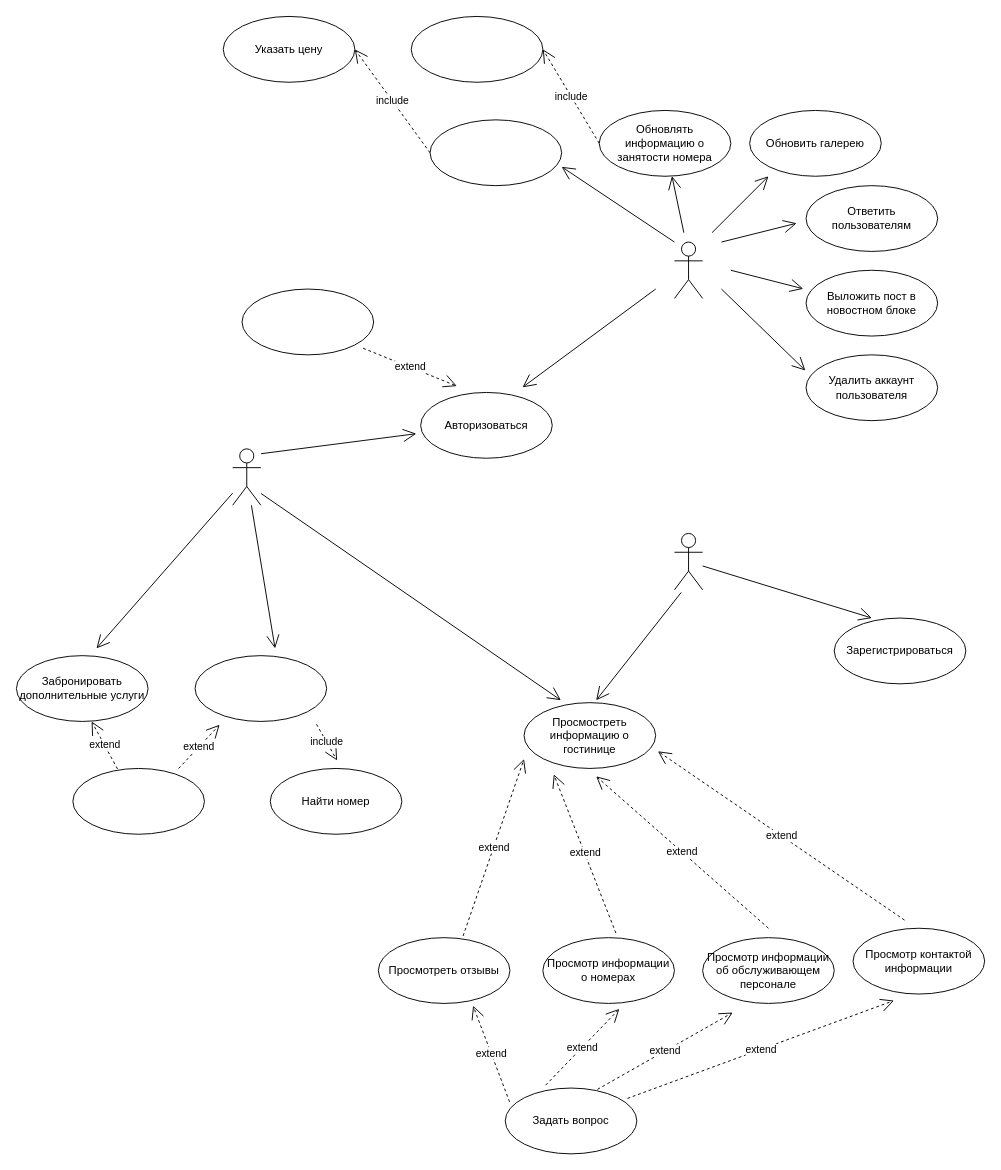
This 1001x1170 diagram has some shape labels left out. Here are the shapes that lost their labels. From the top down, the centre of each, then its label:
point 476,49: Устанавливать цены на номера
point 495,152: Добавлять/удалять дополнительные услуги и акции
point 688,269: Администратор
point 307,321: Редактировать аккаунт
point 246,476: Зарегестрированный пользователь
point 688,561: Гость
point 260,688: Забронировать номер
point 138,801: Оставить отзыв
